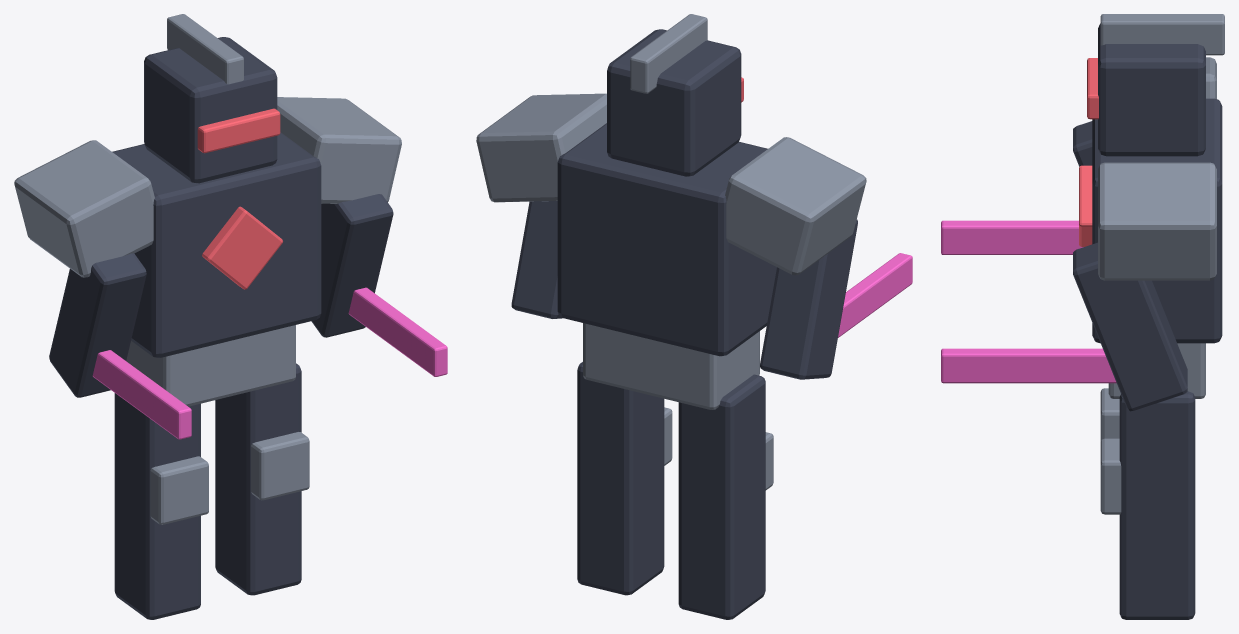
The model's file is Cyber_Trooper.fbx.
The picture shows the model from 3 angles, left to right: view 1: azimuth 30°, elevation 25°; view 2: azimuth 150°, elevation 25°; view 3: azimuth 270°, elevation 25°; orthographic projection. The views are drawn at different scales.
Visible parts, largest first — view 1: Trooper_Torso, Trooper_Leg_1, Trooper_Leg_-1, Trooper_Pauldron_-1, Trooper_Head, Trooper_Pauldron_1, Trooper_Arm_-1, Trooper_Pelvis, Trooper_Arm_1, Trooper_Blade_-1, Trooper_Blade_1, Trooper_ChestReactor (+4 smaller); view 2: Trooper_Torso, Trooper_Leg_-1, Trooper_Leg_1, Trooper_Head, Trooper_Pauldron_-1, Trooper_Pauldron_1, Trooper_Pelvis, Trooper_Arm_-1, Trooper_Arm_1, Trooper_Crest, Trooper_Blade_-1; view 3: Trooper_Leg_1, Trooper_Pauldron_1, Trooper_Head, Trooper_Arm_1, Trooper_Torso, Trooper_Blade_1, Trooper_Blade_-1, Trooper_Crest, Trooper_KneePad_1, Trooper_Pelvis, Trooper_ChestReactor, Trooper_KneePad_-1 (+3 smaller).
Boxes of the visible parts, left/top/right/bottom form: Trooper_Torso: left=112, top=132, right=321, bottom=357; Trooper_Leg_1: left=215, top=363, right=301, bottom=595; Trooper_Leg_-1: left=114, top=393, right=200, bottom=619; Trooper_Pauldron_-1: left=14, top=140, right=154, bottom=277; Trooper_Head: left=144, top=37, right=277, bottom=183; Trooper_Pauldron_1: left=277, top=97, right=401, bottom=203; Trooper_Arm_-1: left=49, top=253, right=146, bottom=397; Trooper_Pelvis: left=126, top=325, right=295, bottom=406; Trooper_Arm_1: left=311, top=194, right=393, bottom=337; Trooper_Blade_-1: left=92, top=350, right=191, bottom=439; Trooper_Blade_1: left=348, top=287, right=447, bottom=376; Trooper_ChestReactor: left=202, top=206, right=282, bottom=289; Trooper_Torso: left=557, top=123, right=776, bottom=356; Trooper_Leg_-1: left=678, top=374, right=765, bottom=619; Trooper_Leg_1: left=577, top=362, right=664, bottom=595; Trooper_Head: left=607, top=29, right=741, bottom=176; Trooper_Pauldron_-1: left=725, top=137, right=866, bottom=275; Trooper_Pauldron_1: left=476, top=93, right=606, bottom=202; Trooper_Pelvis: left=583, top=323, right=759, bottom=409; Trooper_Arm_-1: left=760, top=219, right=857, bottom=379; Trooper_Arm_1: left=511, top=201, right=562, bottom=318; Trooper_Crest: left=630, top=14, right=707, bottom=93; Trooper_Blade_-1: left=838, top=253, right=912, bottom=337; Trooper_Leg_1: left=1119, top=391, right=1195, bottom=619; Trooper_Pauldron_1: left=1098, top=162, right=1216, bottom=280; Trooper_Head: left=1098, top=23, right=1205, bottom=156; Trooper_Arm_1: left=1073, top=242, right=1187, bottom=411; Trooper_Torso: left=1092, top=98, right=1222, bottom=343; Trooper_Blade_1: left=941, top=348, right=1116, bottom=383; Trooper_Blade_-1: left=941, top=220, right=1083, bottom=254; Trooper_Crest: left=1100, top=14, right=1224, bottom=55; Trooper_KneePad_1: left=1100, top=438, right=1121, bottom=514; Trooper_Pelvis: left=1108, top=343, right=1205, bottom=398; Trooper_ChestReactor: left=1079, top=165, right=1092, bottom=246; Trooper_KneePad_-1: left=1100, top=388, right=1119, bottom=441.
Bounding box in the file's own units: 1.47 × 2.31 × 1.05.
